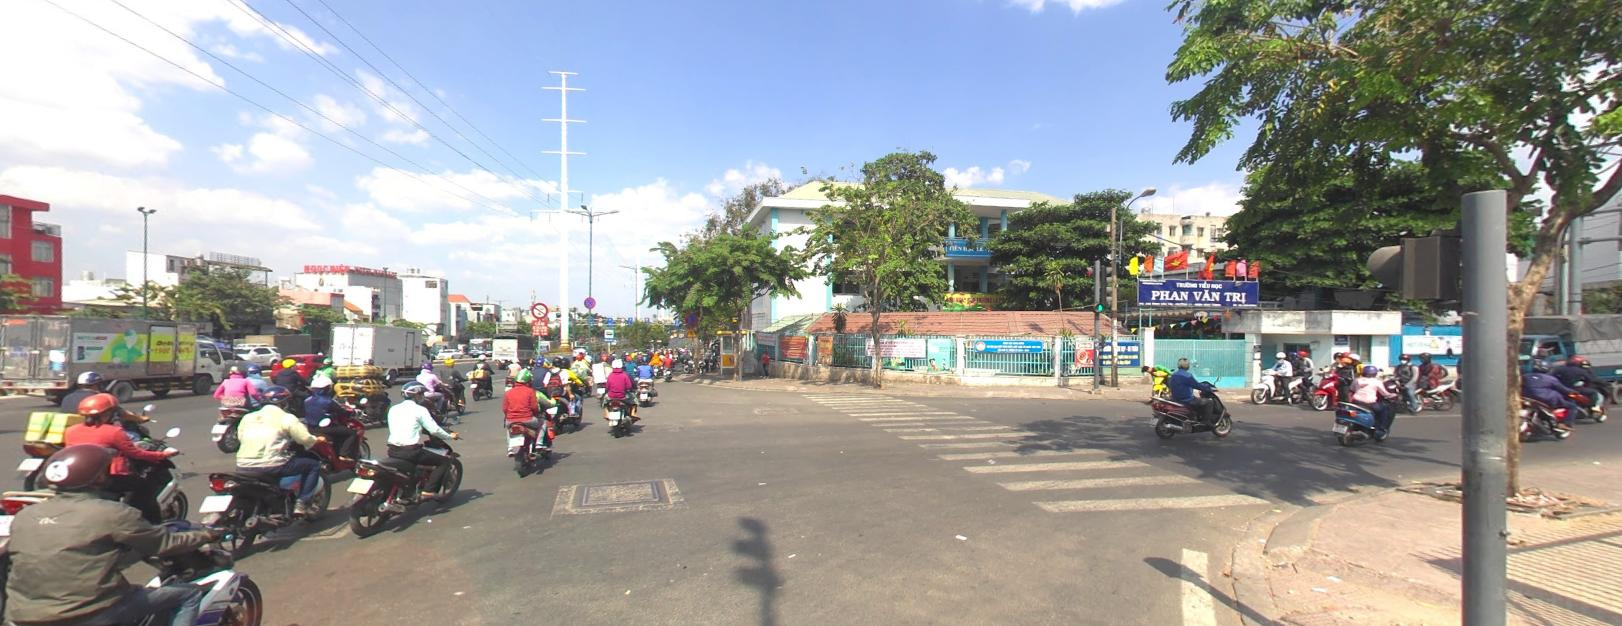Cam con lai: (531, 300, 547, 316)
Cam dung va do: (684, 310, 698, 324), (584, 294, 595, 306)
Nguy hiem: (685, 326, 698, 336)
